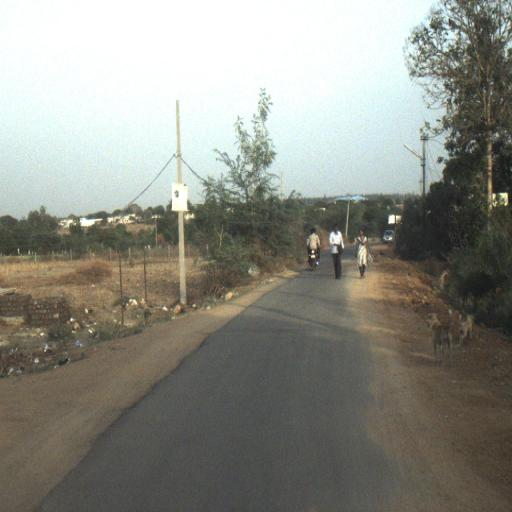street_light_0: (404, 143, 427, 167)
